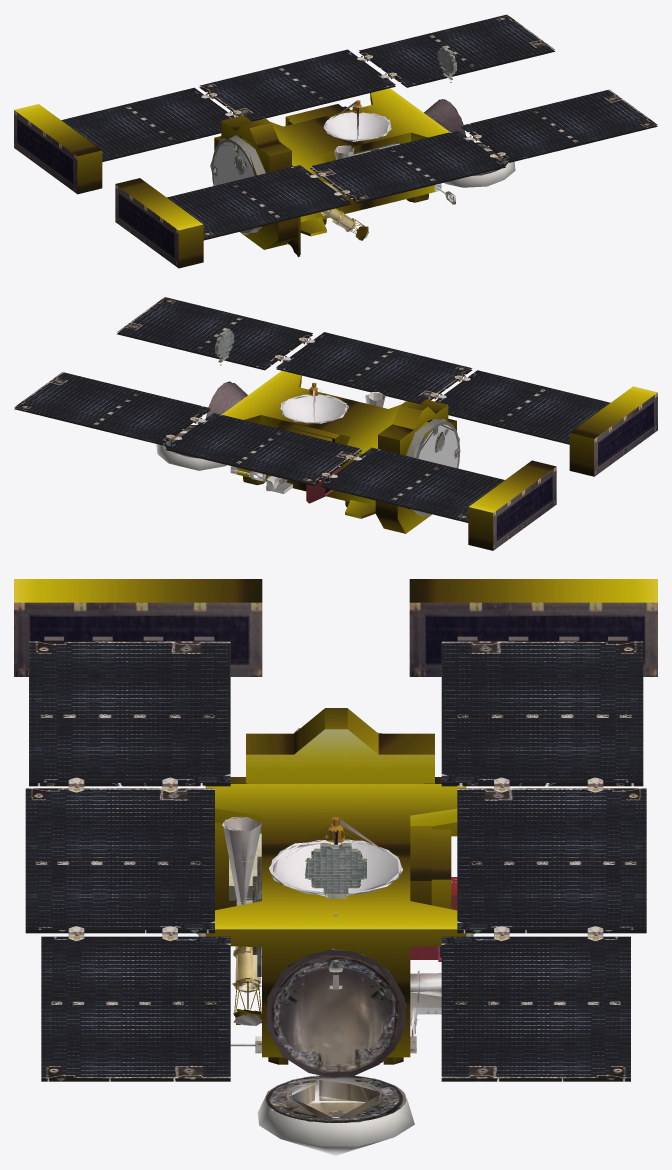
File: stardust_lod2.glb
3 renders of one model, top to bottom at view 1: azimuth 30°, elevation 25°; view 2: azimuth 150°, elevation 25°; view 3: azimuth 270°, elevation 25°, orthographic. The views are drawn at different scales.
Visible parts, largest first — view 1: stardust_lod2; view 2: stardust_lod2; view 3: stardust_lod2.
Part boxes in pixels (x1,y1,x2,y2): stardust_lod2: (14, 14, 657, 268); stardust_lod2: (14, 297, 657, 550); stardust_lod2: (14, 579, 657, 1155).
Size of the model in its own units: 5.1 by 1.47 by 2.99.
7 materials, 6 textured.
